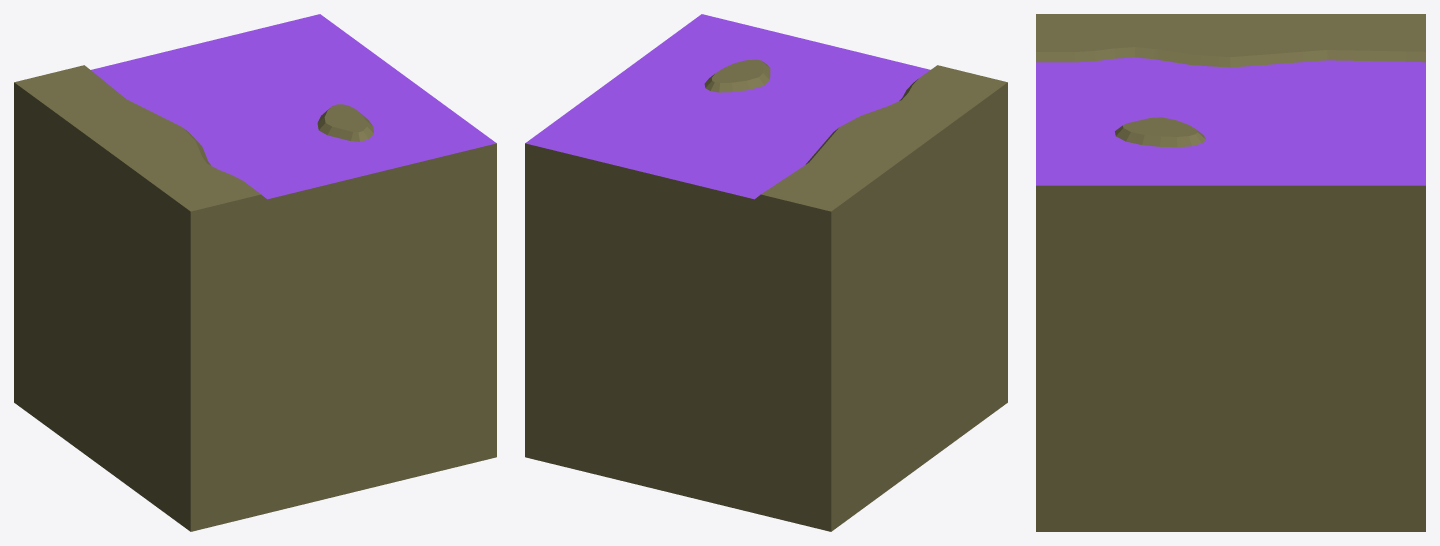
The model's file is tile_toxic_5d_04.fbx.
The picture shows the model from 3 angles, left to right: view 1: azimuth 30°, elevation 25°; view 2: azimuth 150°, elevation 25°; view 3: azimuth 270°, elevation 25°; orthographic projection. The views are drawn at different scales.
Parts seen in each view (by area): view 1: tile_toxic_5d_04; view 2: tile_toxic_5d_04; view 3: tile_toxic_5d_04.
Boxes of the visible parts, x1,y1,x2,y2 form: tile_toxic_5d_04: [14, 14, 496, 531]; tile_toxic_5d_04: [525, 14, 1007, 531]; tile_toxic_5d_04: [1036, 14, 1425, 531].
Bounding box in the file's own units: 100 × 100 × 100.
